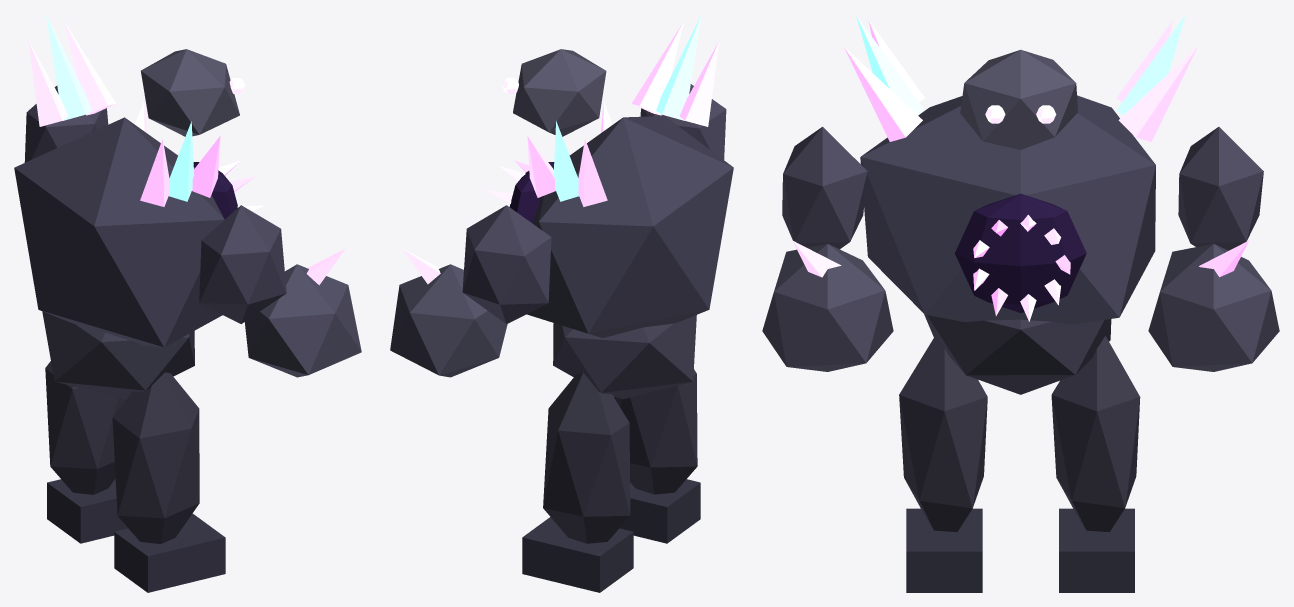
File: geode_golem.glb
3 views of the same model, side by side, from view 1: azimuth 30°, elevation 25°; view 2: azimuth 150°, elevation 25°; view 3: azimuth 270°, elevation 25° (orthographic). The views are drawn at different scales.
Visible parts, largest first — view 1: body, leg_r, arm_r, leg_l, head, arm_l; view 2: body, leg_l, arm_l, leg_r, head, arm_r; view 3: body, arm_l, arm_r, leg_r, leg_l, head.
Boxes of the visible parts, x1,y1,x2,y2 form: body: (14,14,264,399); leg_r: (112,372,225,592); arm_r: (199,205,361,377); leg_l: (45,361,127,543); head: (141,49,245,136); arm_l: (24,85,146,162); body: (486,14,733,399); leg_l: (522,372,633,592); arm_l: (390,205,551,377); leg_r: (614,369,700,543); head: (502,49,606,136); arm_r: (601,84,726,159); body: (843,14,1197,394); arm_l: (1148,127,1279,371); arm_r: (762,126,893,371); leg_r: (899,335,987,592); leg_l: (1051,336,1140,592); head: (960,49,1077,149).
Size of the model in its own units: 1.16 by 2.39 by 2.04.
